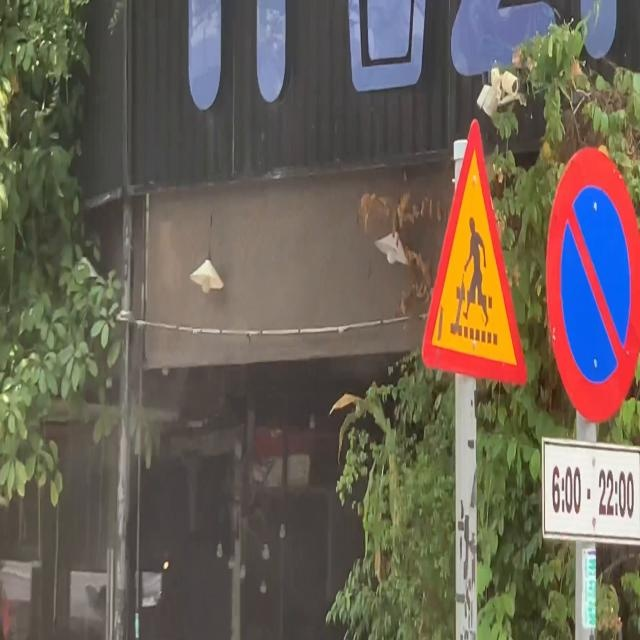bien_nguy_hiem: (420, 114, 529, 388), (545, 144, 640, 427)
